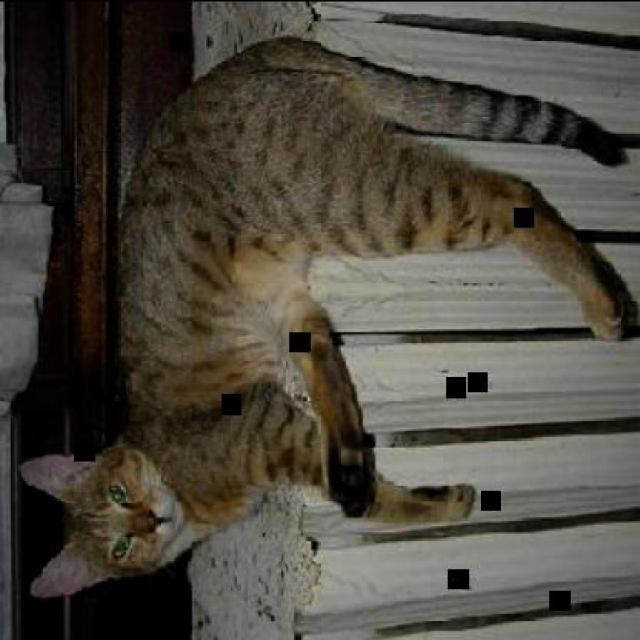unauthorized: (17, 34, 638, 598)
